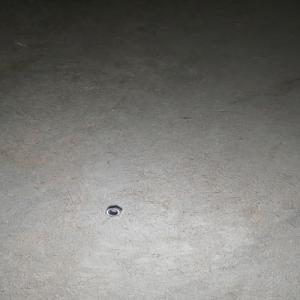Nut: (104, 205, 122, 215)
